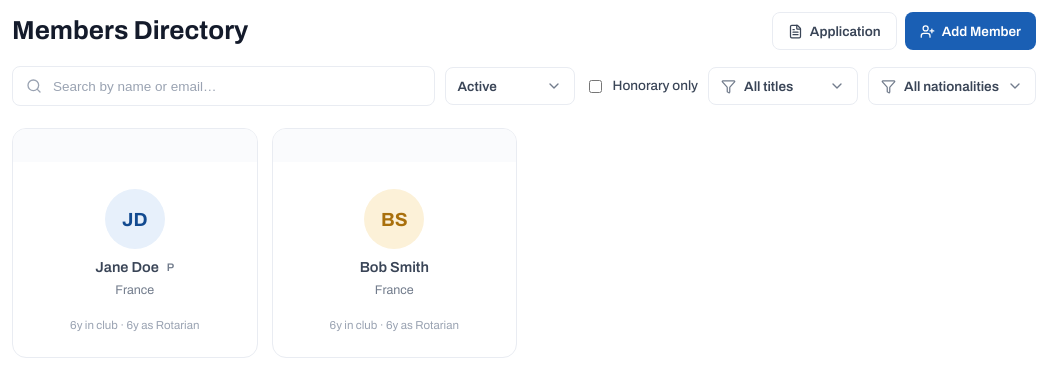
MembersList › as admin › filters the visible list by the search box
expect the text "Jane Doe" is shown: met, box 95,256 -> 159,279
expect the text "Bob Smith" is shown: met, box 360,256 -> 429,279
Type "bob" into the field labelled "Search by name or email…" at coordinates (236, 86), box 51,78 -> 420,94
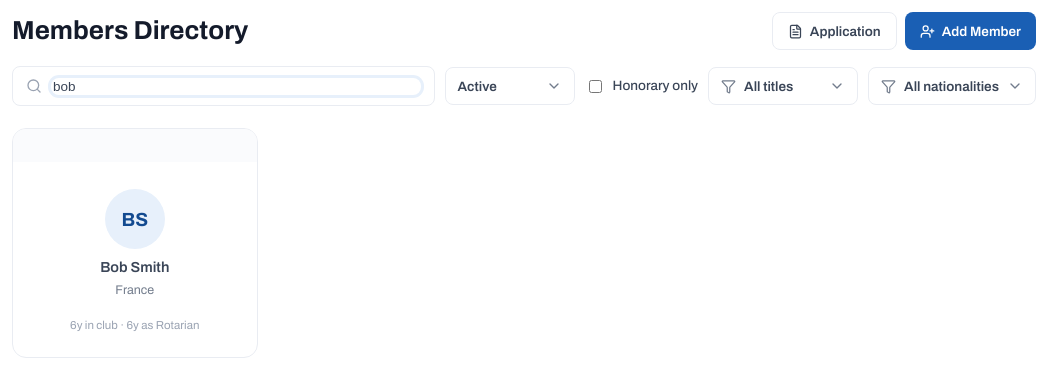
expect the text "Bob Smith" is shown: met, box 100,256 -> 169,279
expect the text "Jane Doe" is gone: met
